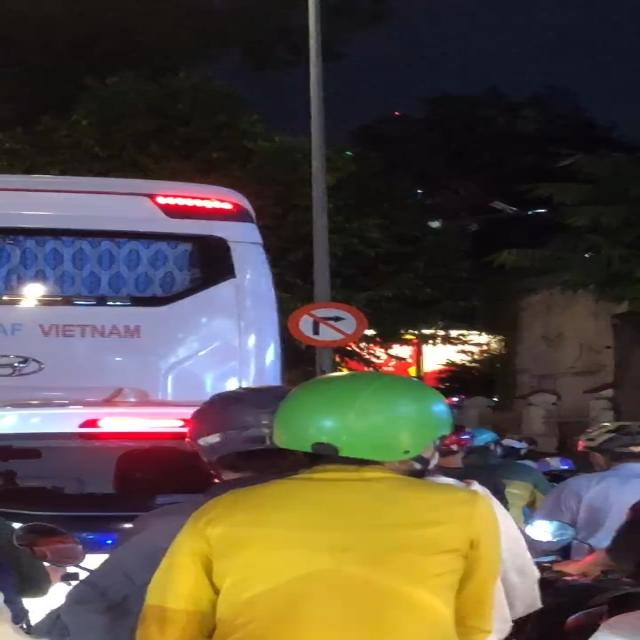Bien bao cam re phai: (286, 300, 379, 352)
